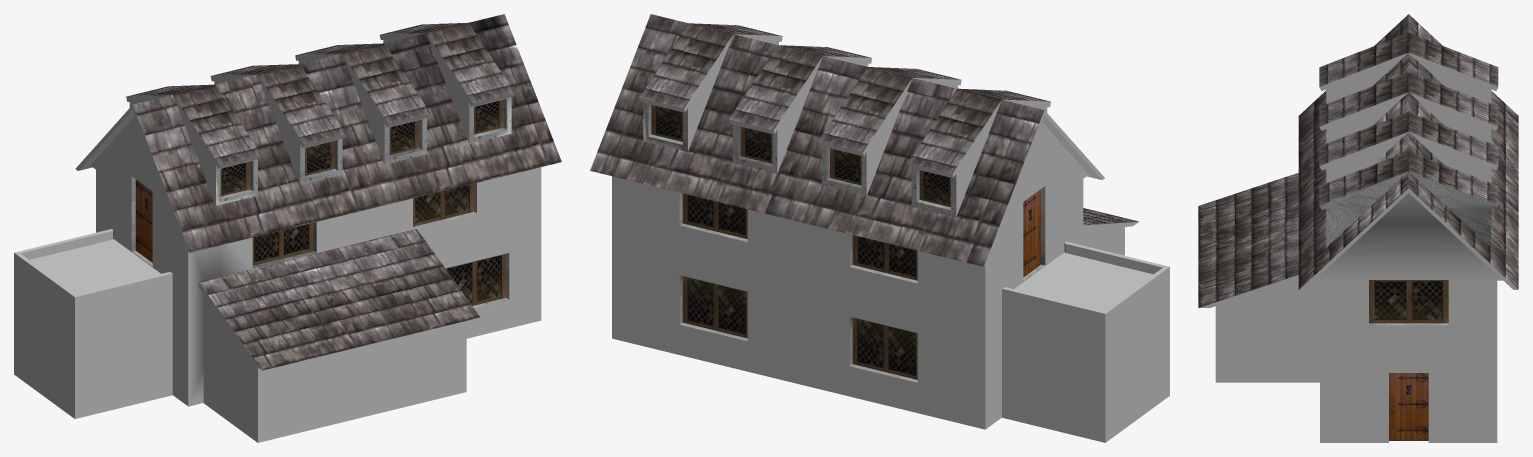
Rendered from Home2.fbx.
3 views of the same model, side by side, from view 1: azimuth 30°, elevation 25°; view 2: azimuth 150°, elevation 25°; view 3: azimuth 270°, elevation 25° (orthographic). The views are drawn at different scales.
Visible parts, largest first — view 1: Home2; view 2: Home2; view 3: Home2.
Boxes of the visible parts, x1,y1,x2,y2 form: Home2: [14, 14, 561, 442]; Home2: [590, 14, 1169, 442]; Home2: [1198, 14, 1518, 442].
Bounding box in the file's own units: 959 × 539 × 603.
